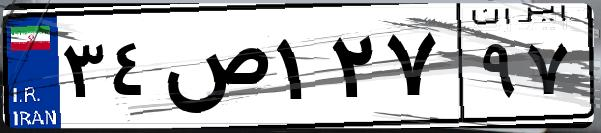1: (270, 28, 330, 110)
2: (330, 28, 385, 110)
3: (57, 26, 110, 100)
4: (110, 28, 158, 98)
7: (385, 28, 445, 110), (525, 38, 570, 115)
9: (475, 38, 525, 113)
ص: (158, 20, 270, 120)
